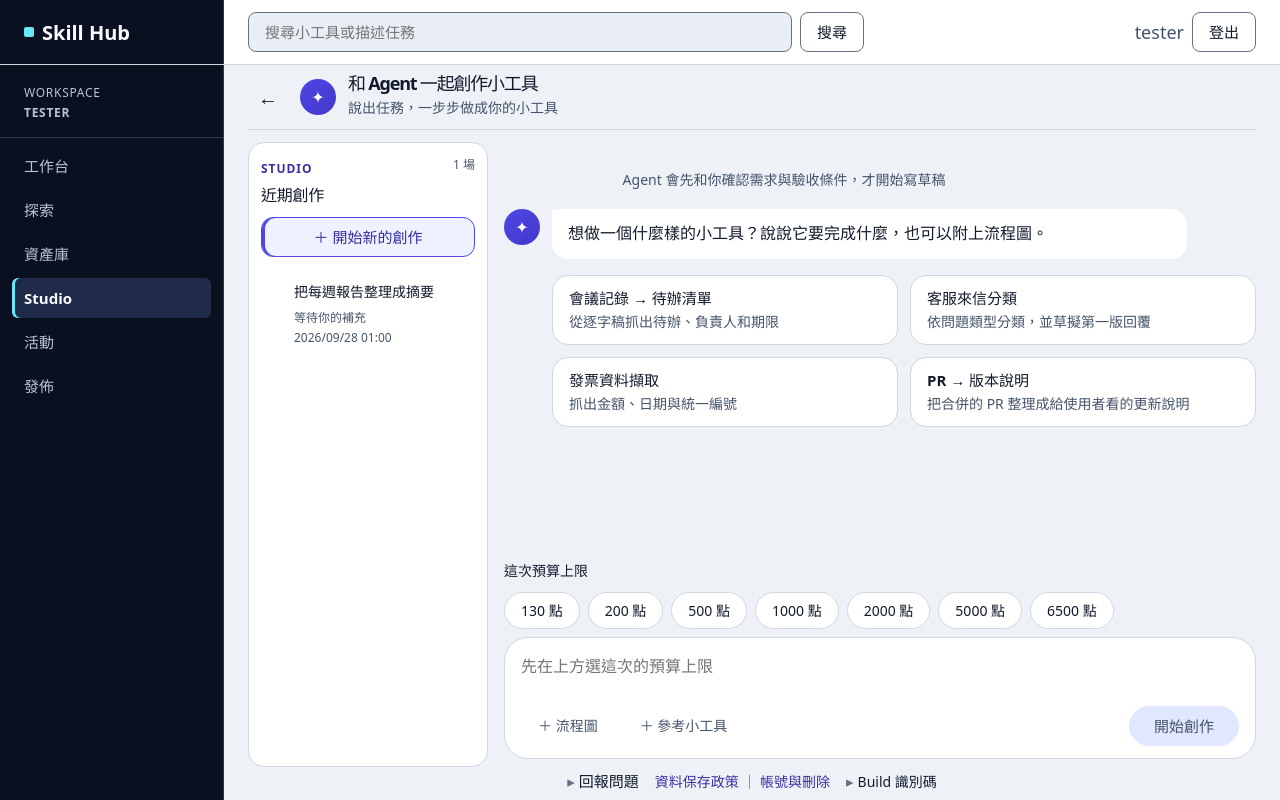
Scenario: choosing a saved conversation sets its URL and starting new clears it
The width and height of the screenshot is (1280, 800).
Click the button "把每週報告整理成摘要 等待你的補充 2026/09/28 01:00".
click(376, 314)  # box [281,269,471,359]
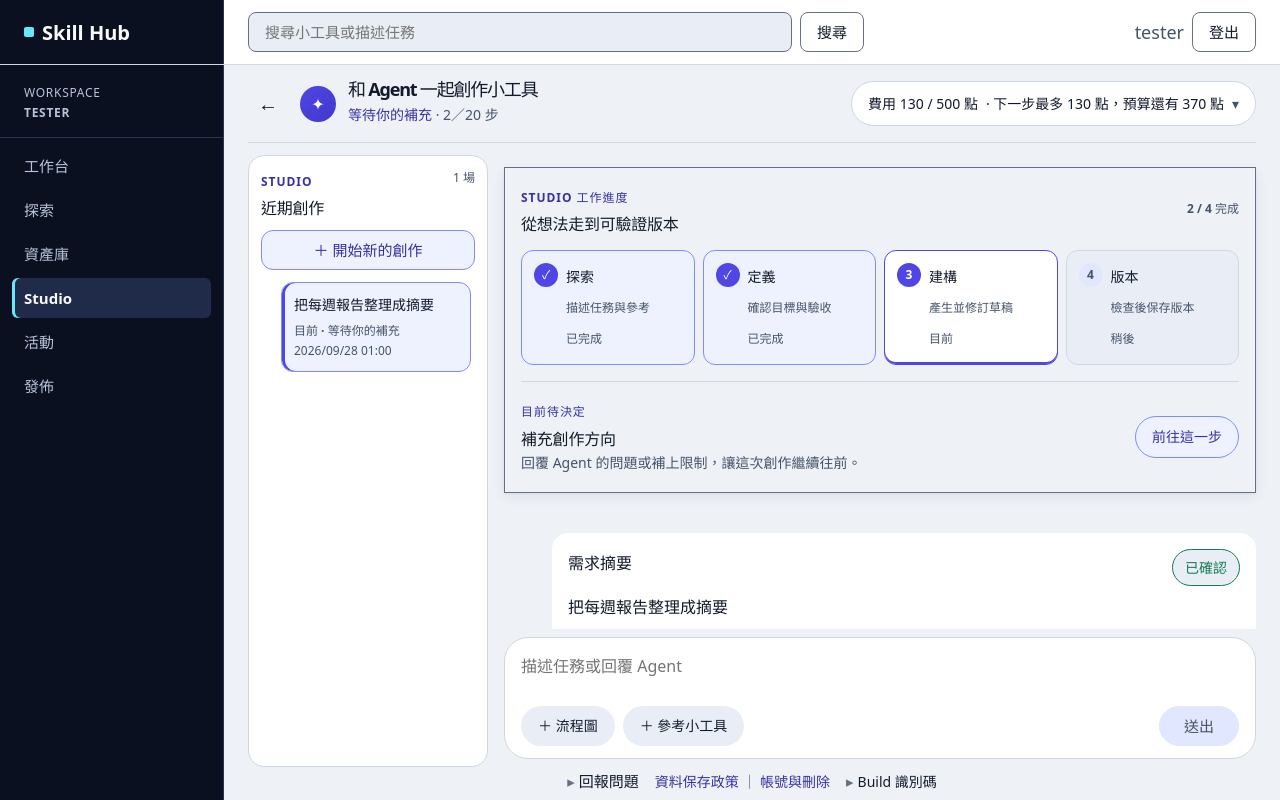
Click the button "＋ 開始新的創作".
click(368, 250)  # box [261,230,475,270]
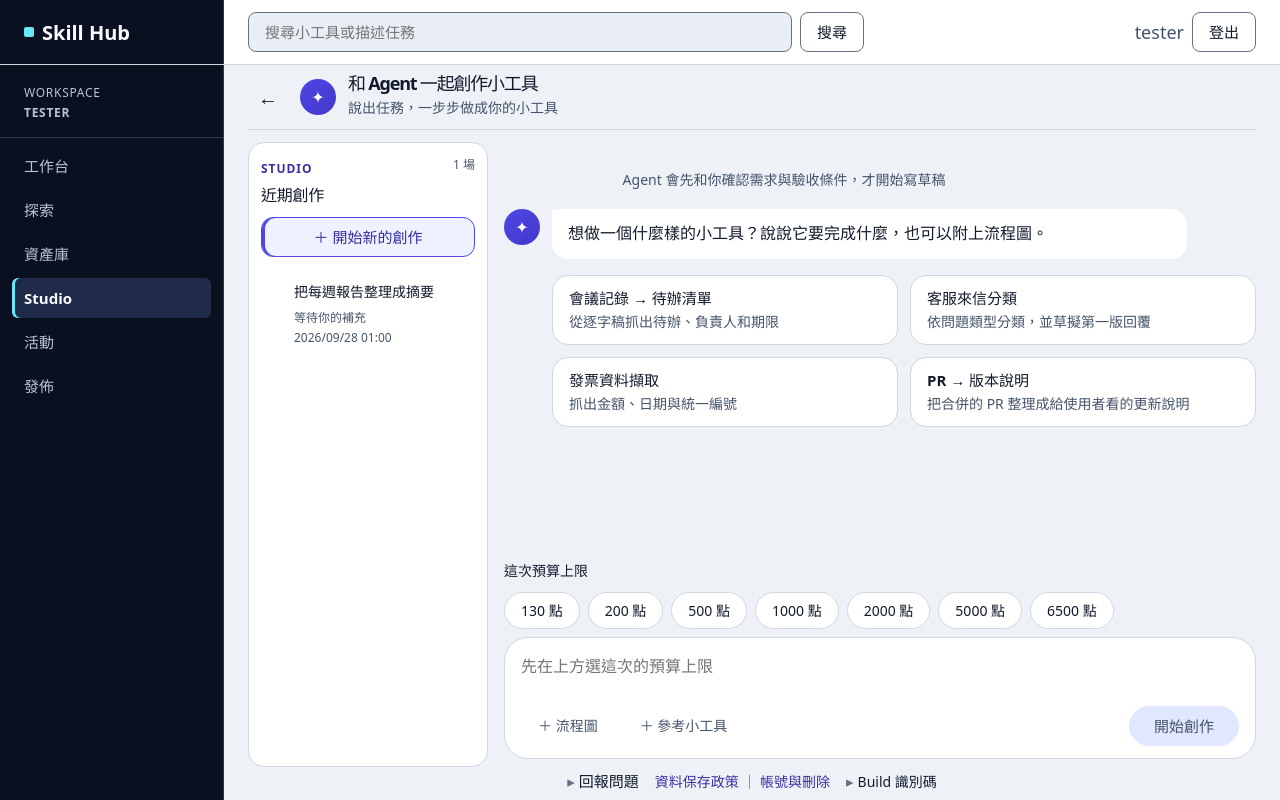
Expected: the text "說出任務，一步步做成你的小工具" is shown, [348,98,558,117]
